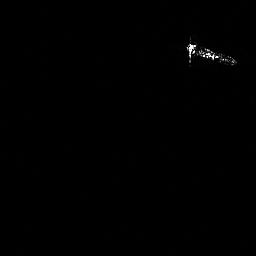ship: (183, 38, 239, 69)
